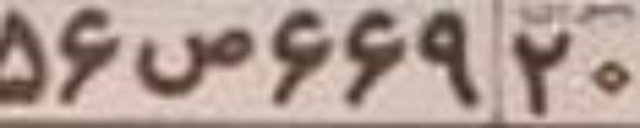0: (588, 59, 632, 94)
2: (507, 26, 578, 115)
5: (1, 8, 44, 102)
6: (52, 7, 120, 104), (267, 8, 332, 106), (344, 8, 406, 106)
9: (418, 10, 481, 107)
saat: (136, 25, 257, 101)
